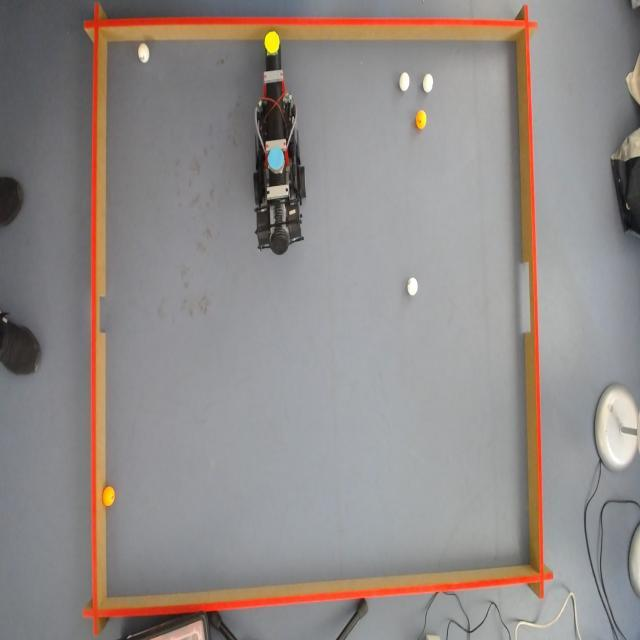orange: (102, 484, 115, 506), (414, 112, 426, 130)
robot: (256, 68, 305, 260)
robot-rear: (268, 148, 284, 169)
white: (264, 34, 278, 54), (138, 43, 150, 64), (421, 74, 433, 94), (408, 276, 418, 297), (400, 70, 410, 91)
